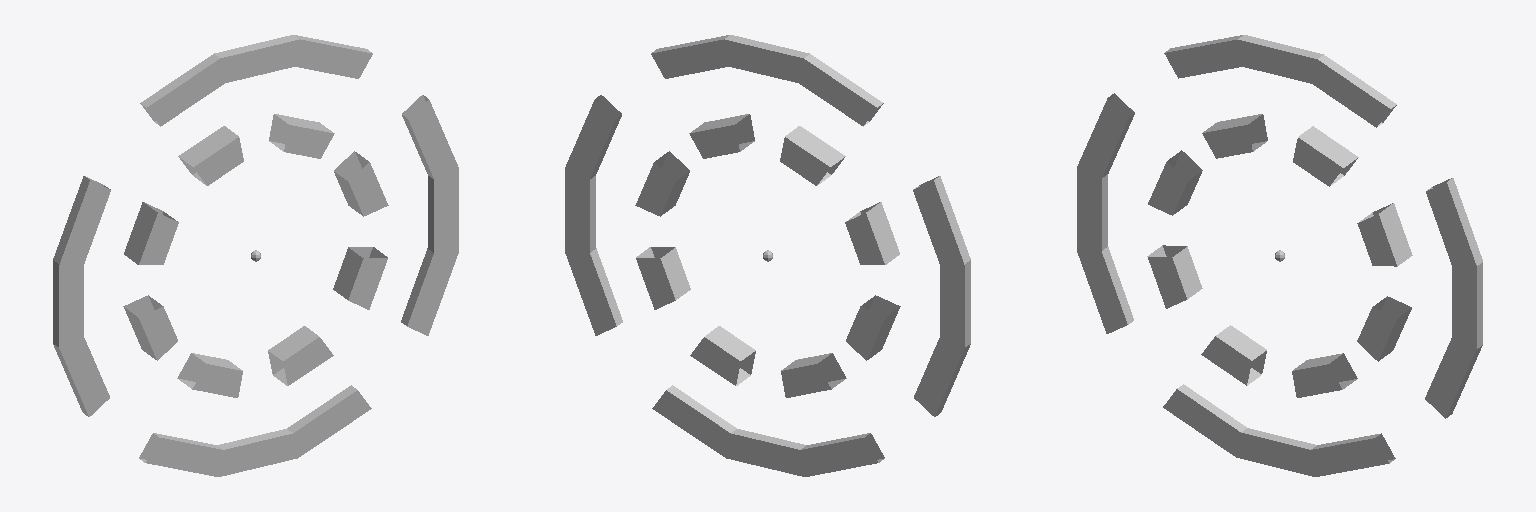
The model's file is Mira.obj.
3 renders of one model, left to right at view 1: azimuth 30°, elevation 25°; view 2: azimuth 150°, elevation 25°; view 3: azimuth 330°, elevation 25°, orthographic.
Visible parts, largest first — view 1: pPipe1, pPipe2; view 2: pPipe1, pPipe2; view 3: pPipe1, pPipe2.
Boxes of the visible parts, <box> form: pPipe1: <box>53,35,458,476</box>; pPipe2: <box>123,114,388,397</box>; pPipe1: <box>565,35,970,476</box>; pPipe2: <box>635,114,900,397</box>; pPipe1: <box>1077,35,1482,476</box>; pPipe2: <box>1147,114,1412,397</box>.
Size of the model in its own units: 7.85 by 7.85 by 0.5177.